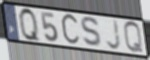5: (40, 10, 60, 43)
C: (60, 12, 82, 48)
J: (105, 19, 123, 52)
Q: (18, 6, 43, 45), (123, 20, 145, 55)
S: (79, 16, 105, 50)
